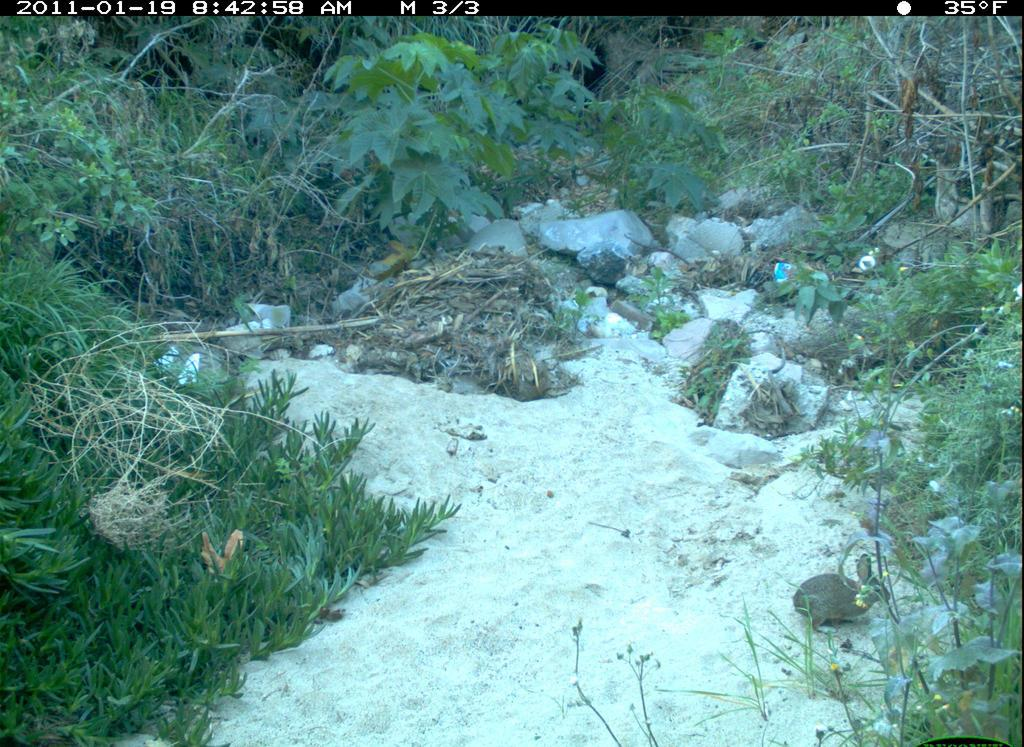rabbit: (794, 550, 893, 634)
